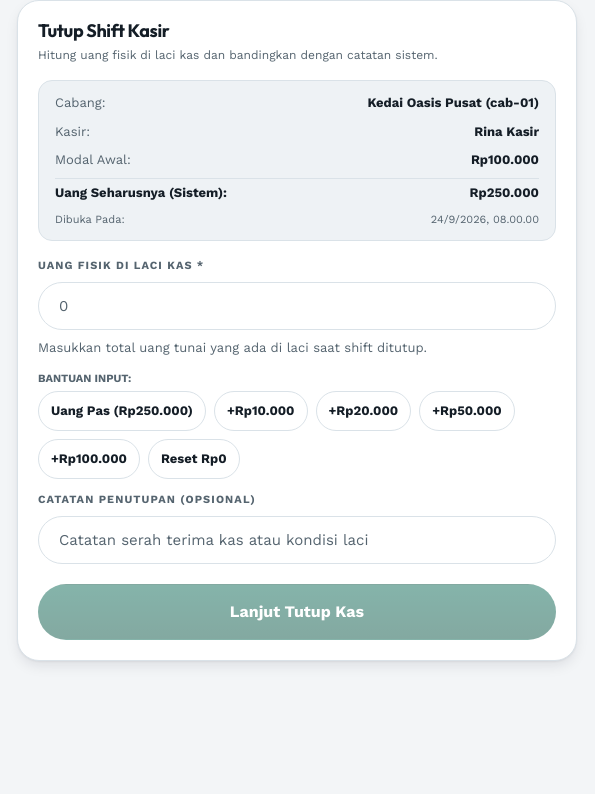
Test: Komponen TutupKas (T7-02) › menolak lanjut jika ada selisih tetapi alasan kosong
Step 1. Type "240000" into the number field labelled "Uang Fisik di Laci Kas *" → (297, 306), box [38,282,556,330]
(page scrolled)
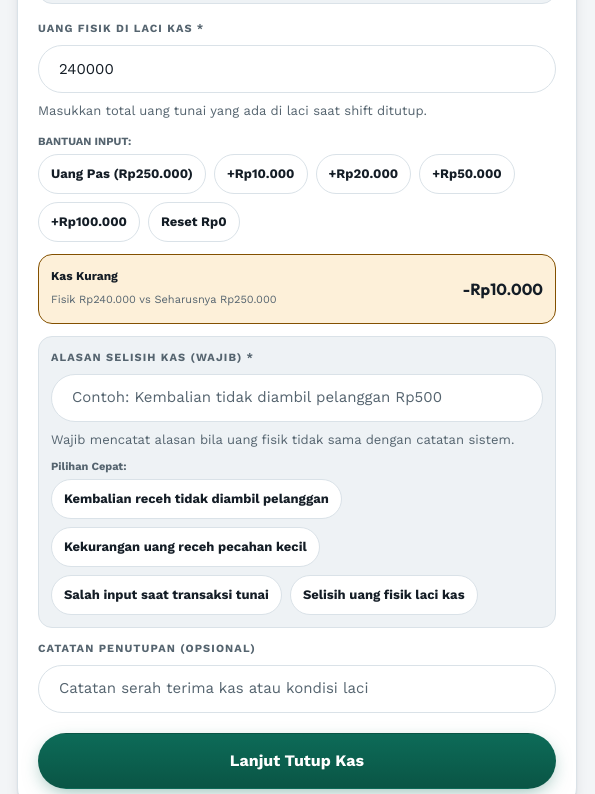
Step 2. Click the button "Lanjut Tutup Kas" → (297, 761), box [38,733,556,789]
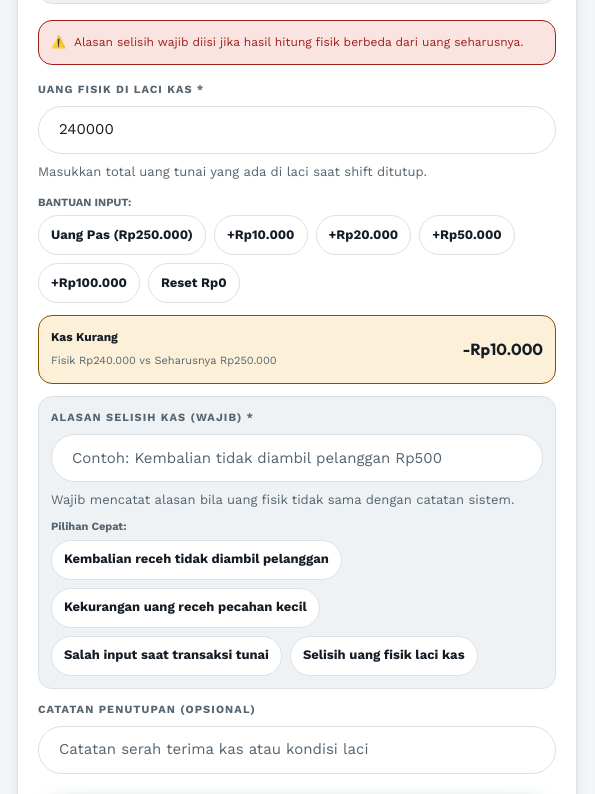
Now the text "Alasan selisih wajib diisi jika hasil hitung fisik berbeda" is shown, box [74,35,524,49]
